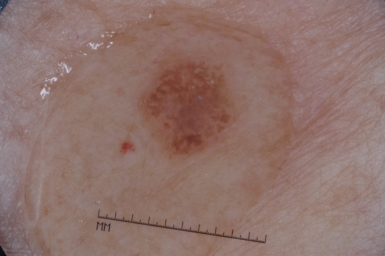seborrheic keratosis: (117, 45, 248, 178)
